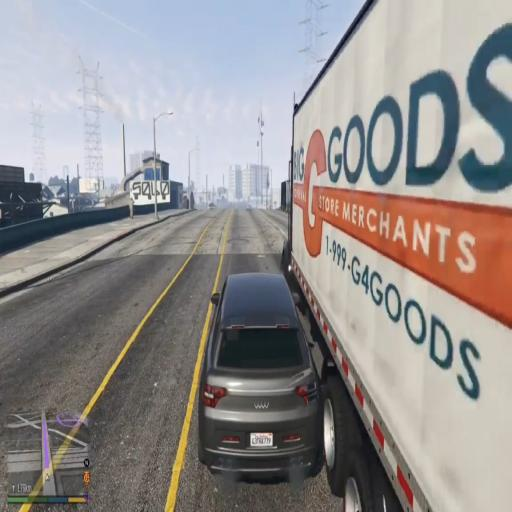Cars: (192, 264, 328, 488)
People: (126, 194, 138, 222)
